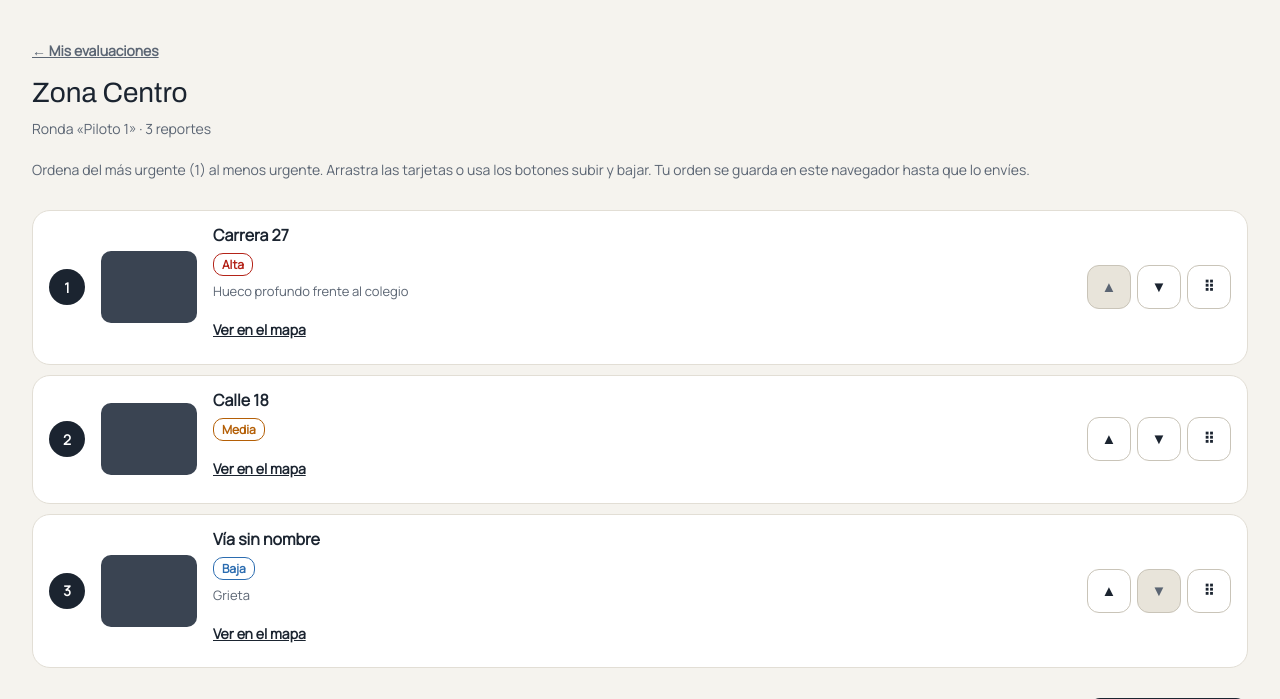
Scenario: vista a ciegas de una zona › subir y bajar cambian el orden y lo anuncian
The image size is (1280, 699).
Later steps or results of the test are not shown.
Step 1. Click the button named "Subir Calle 18" → (1109, 439), box 1087,417 -> 1131,461
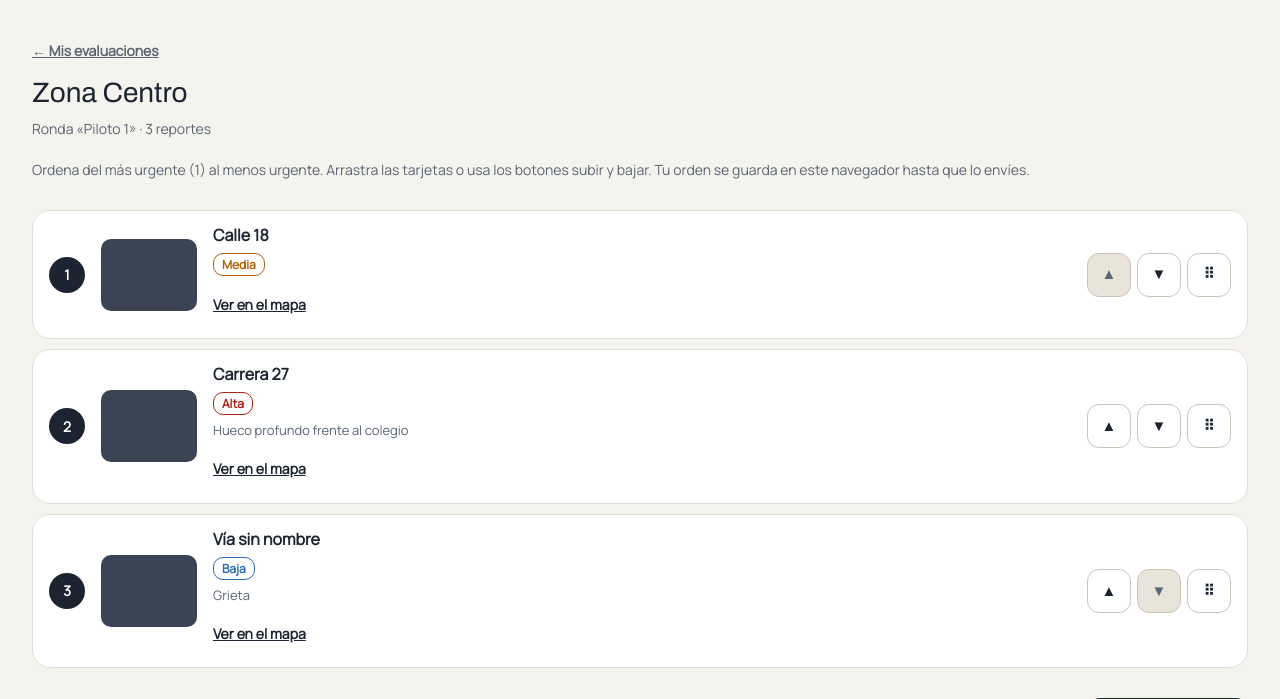
Now the button named "Subir Calle 18" is disabled, box 1087,252 -> 1131,296
